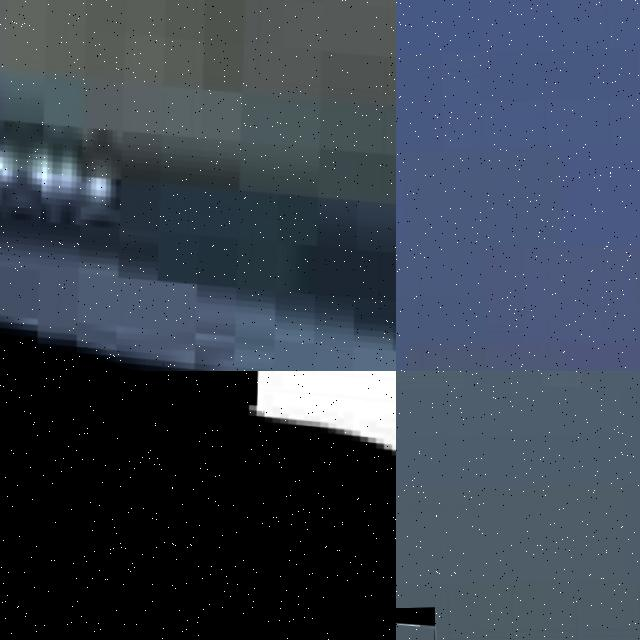0: (0, 0, 396, 371)
drone: (0, 371, 396, 640)
